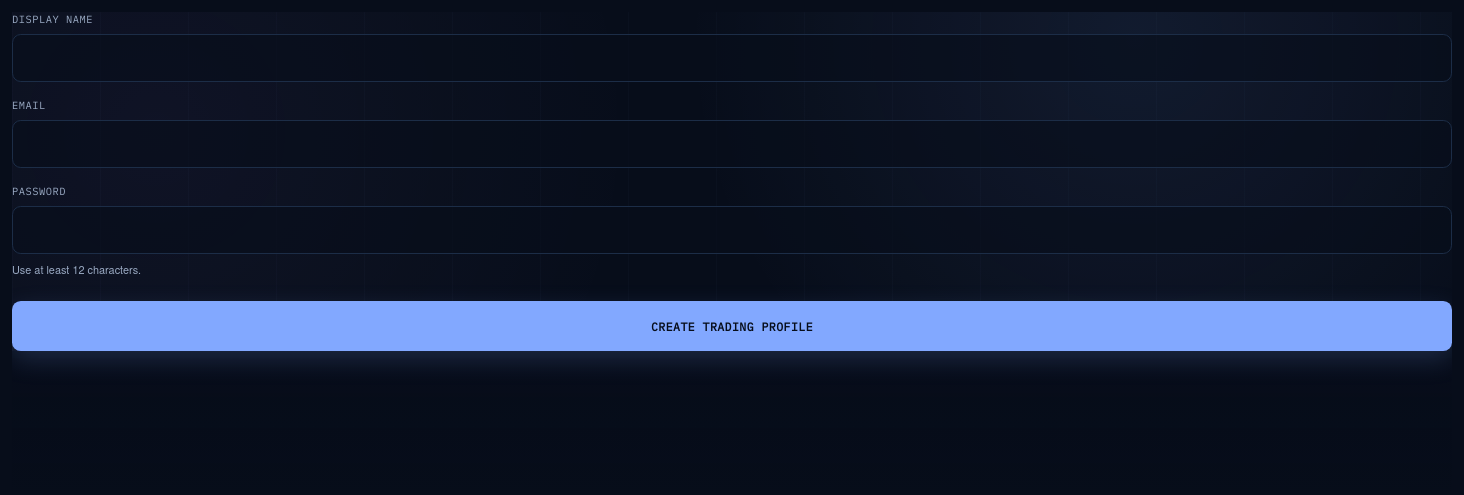
it: auth form navigation › offers a confirmation resend path when registration email delivery fails
Type "Trader" into the field labelled "Display name" at (732, 58), box left=12, top=34, right=1452, bottom=82
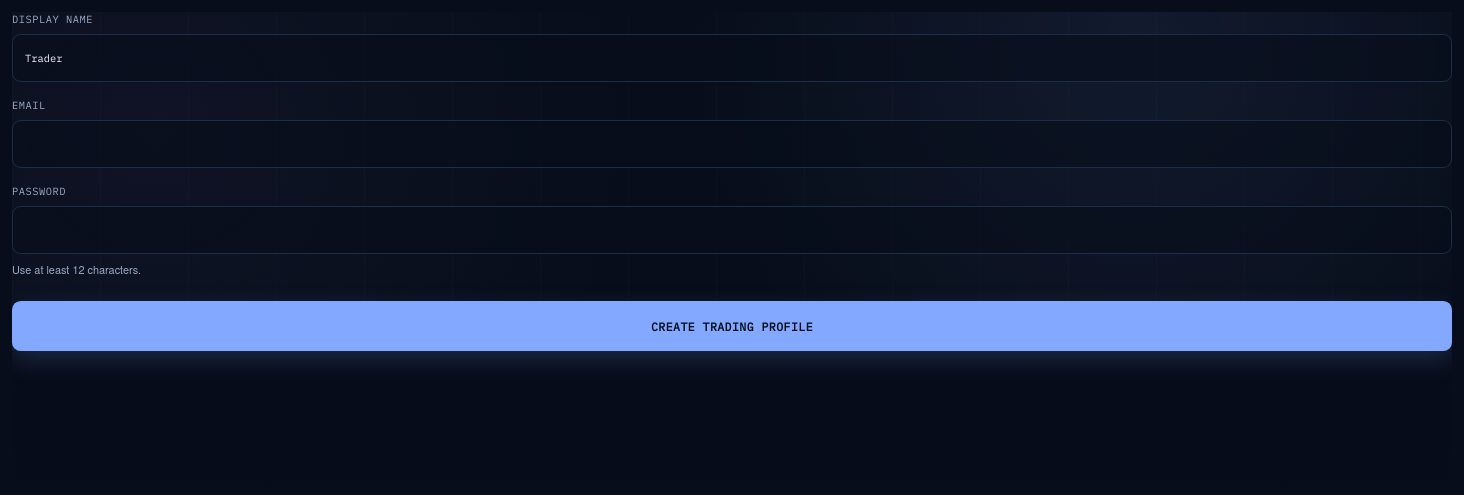
Type "trader@example.com" into the field labelled "Email" at (732, 144), box left=12, top=120, right=1452, bottom=168
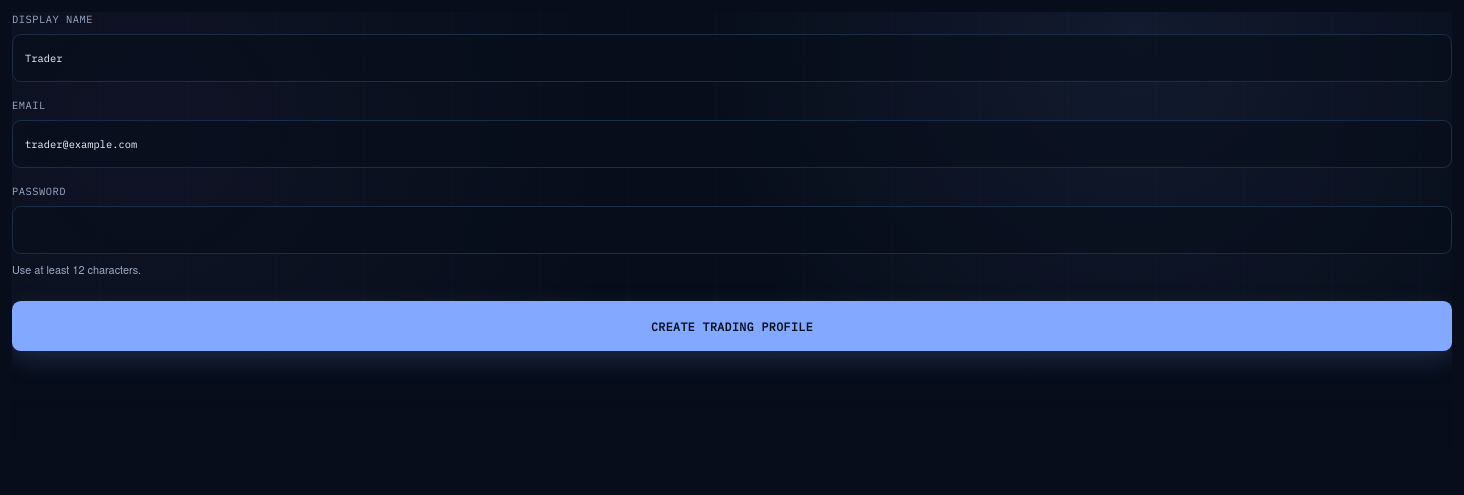
Type "a secure password" into the password field labelled "Password Use at least 12 characters." at (732, 230), box left=12, top=206, right=1452, bottom=254
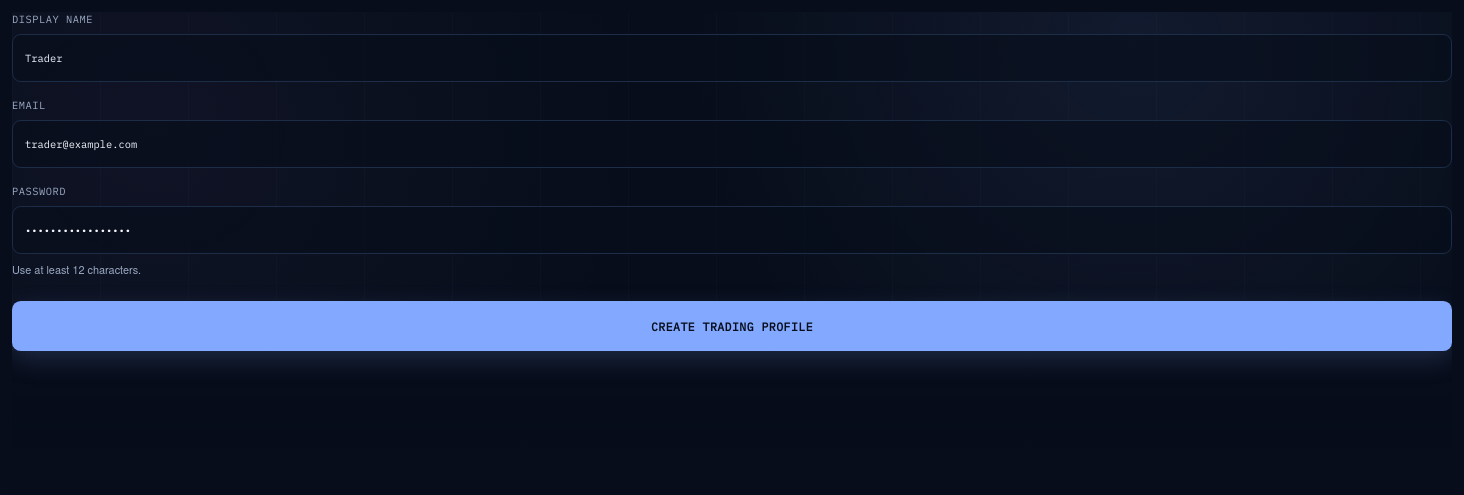
Click the button "Create trading profile" at (732, 326), box left=12, top=301, right=1452, bottom=351
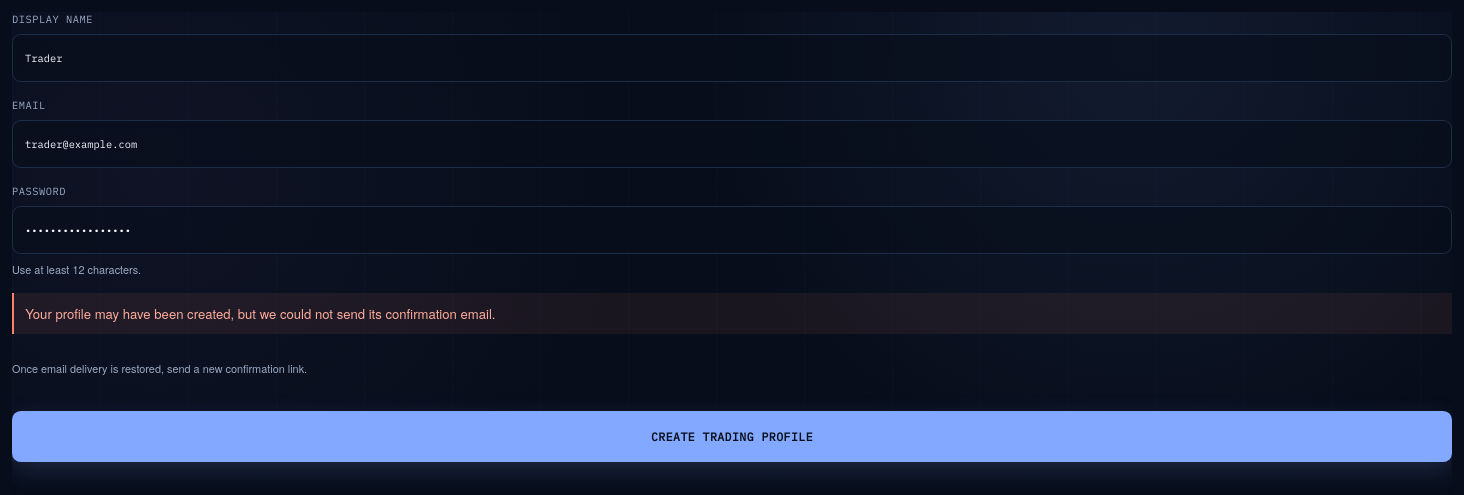
Result: the text "Your profile may have been created, but we could not send its confirmation email." is shown at left=25, top=304, right=496, bottom=323
